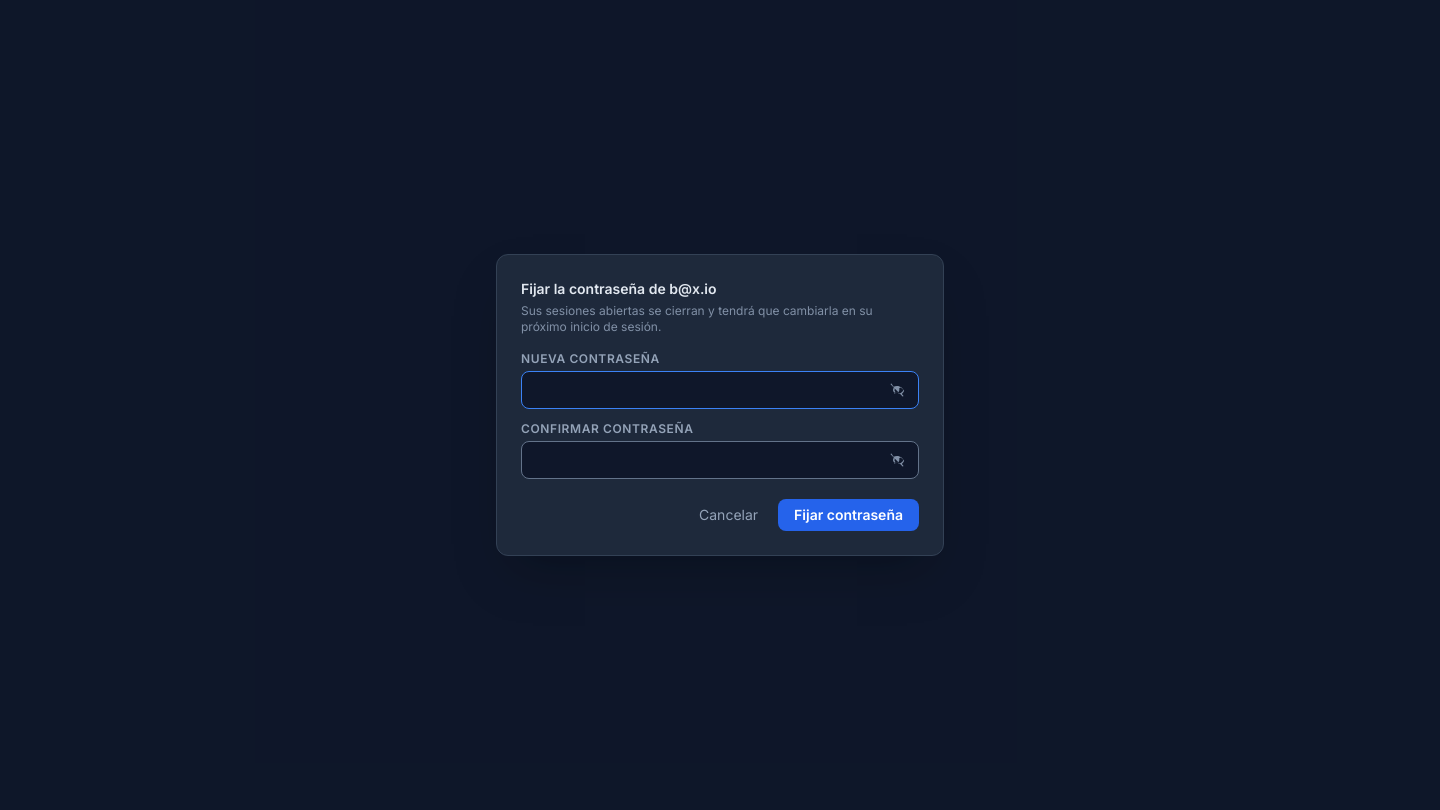
it: FijarPasswordModal › la regla y la confirmación se frenan antes del backend
Type "corta" into the password field labelled "Nueva contraseña".
click(720, 390); type("corta")  # box [521,371,919,409]
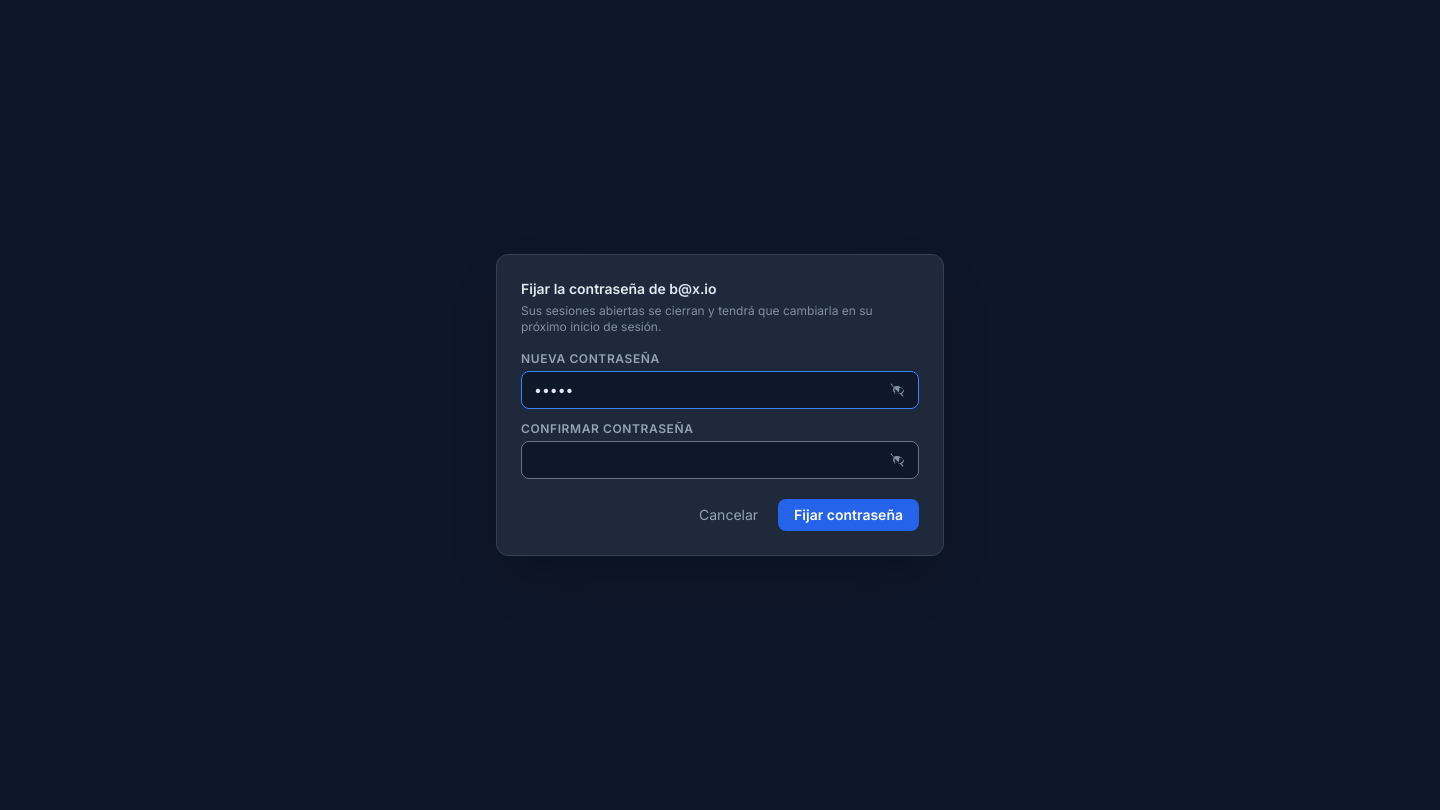
Type "corta" into the password field labelled "Confirmar contraseña".
click(720, 460); type("corta")  # box [521,441,919,479]
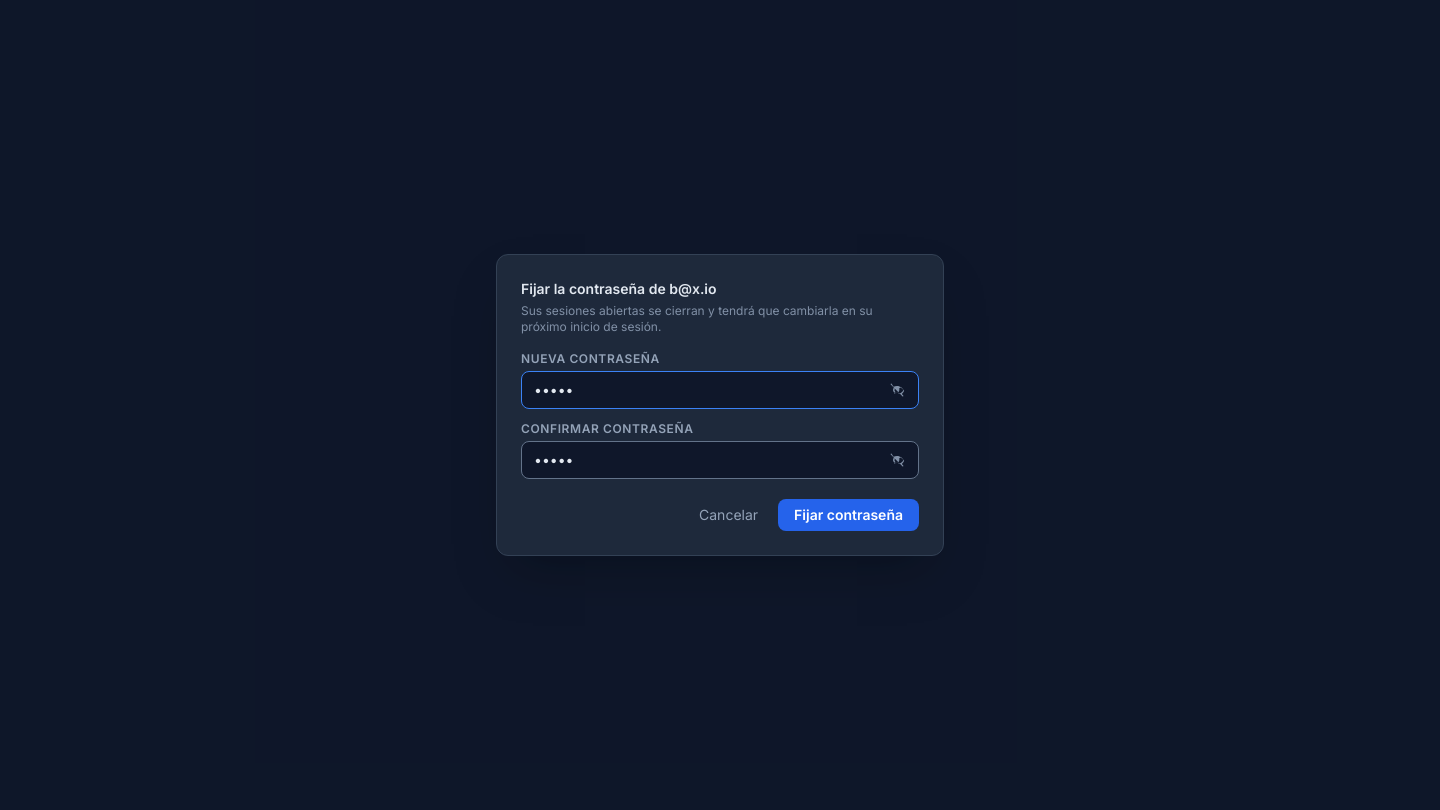
Click the button "Fijar contraseña".
click(849, 515)  # box [778,499,919,531]
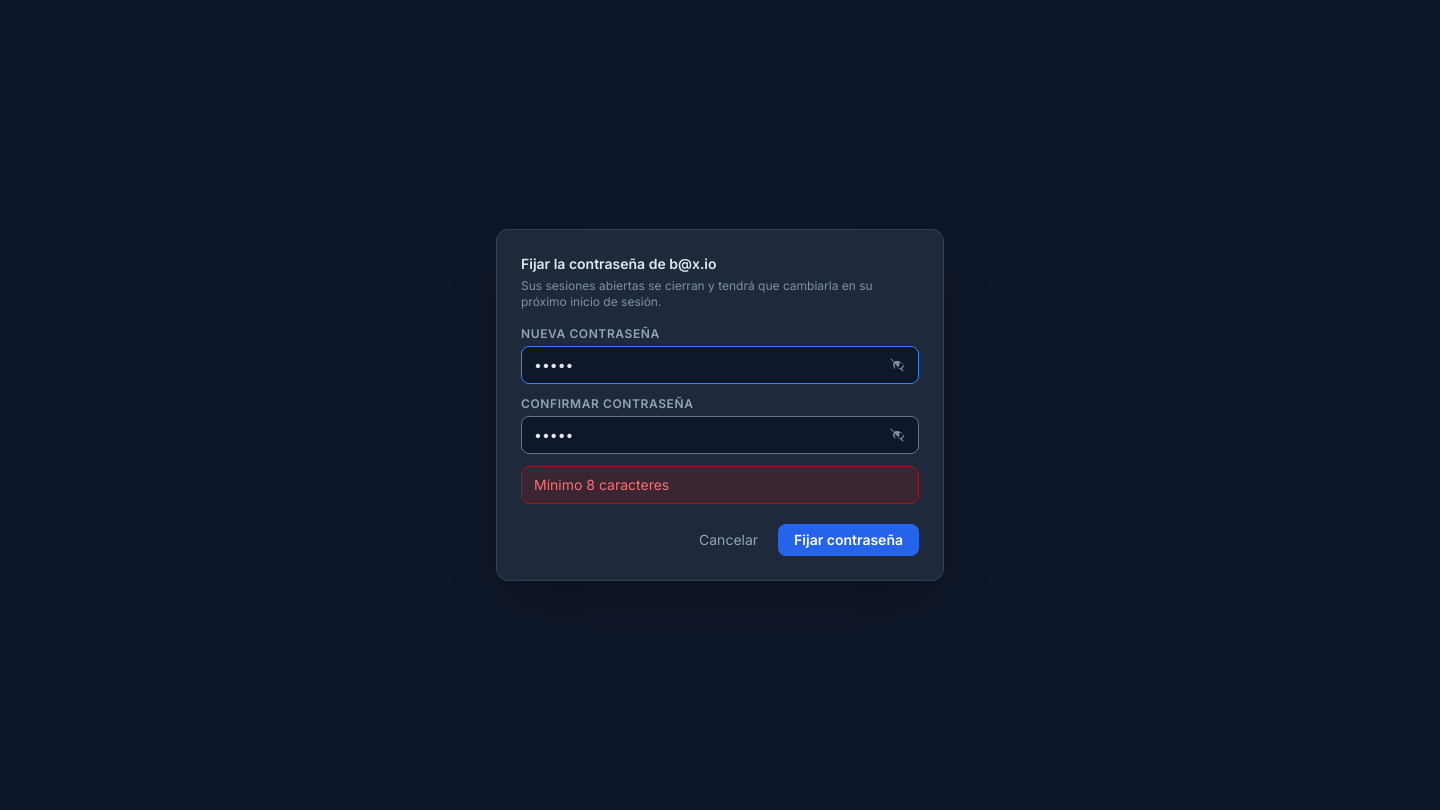
Expected: the text "Mínimo 8 caracteres" is shown, [521,466,919,504]
